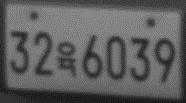0: (106, 36, 127, 80)
2: (33, 29, 55, 77)
3: (129, 36, 151, 81), (9, 29, 29, 74)
6: (81, 34, 103, 79)
9: (153, 38, 177, 83)
육: (55, 40, 77, 79)
